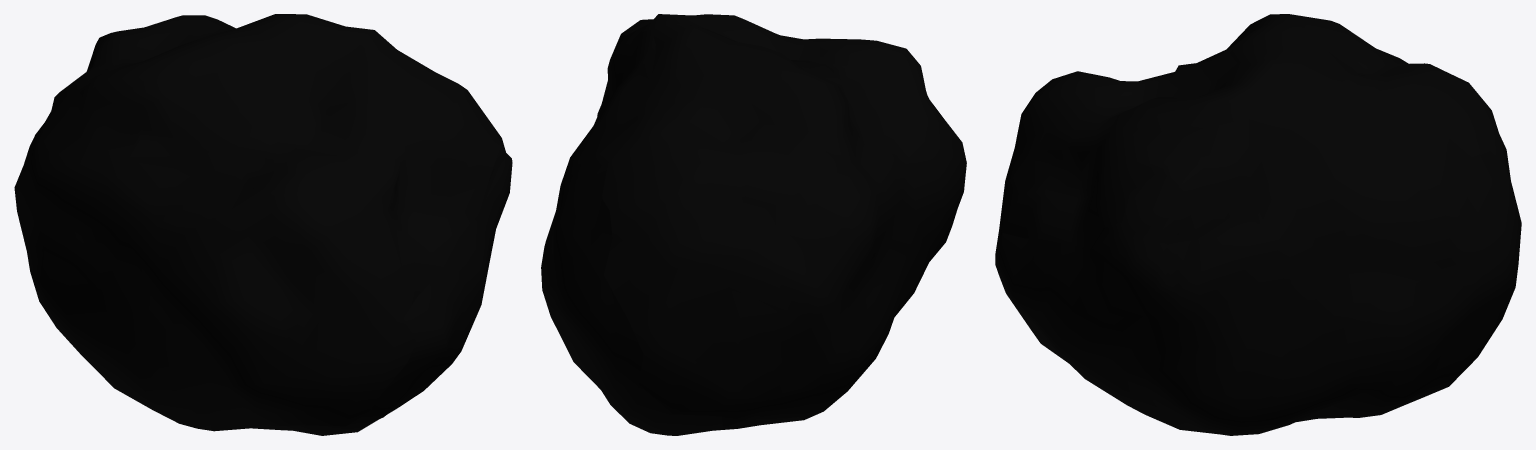
The model's file is prop_asteroid_03.glb.
3 views of the same model, side by side, from view 1: azimuth 30°, elevation 25°; view 2: azimuth 150°, elevation 25°; view 3: azimuth 270°, elevation 25° (orthographic). The views are drawn at different scales.
Parts seen in each view (by area): view 1: asteroid_set_2_03; view 2: asteroid_set_2_03; view 3: asteroid_set_2_03.
Boxes of the visible parts, <box> form: asteroid_set_2_03: <box>14,14,512,435</box>; asteroid_set_2_03: <box>541,14,966,435</box>; asteroid_set_2_03: <box>995,14,1521,435</box>.
Bounding box in the file's own units: 2.75 × 2.65 × 3.42.
Materials: 1 (1 with a texture image).
